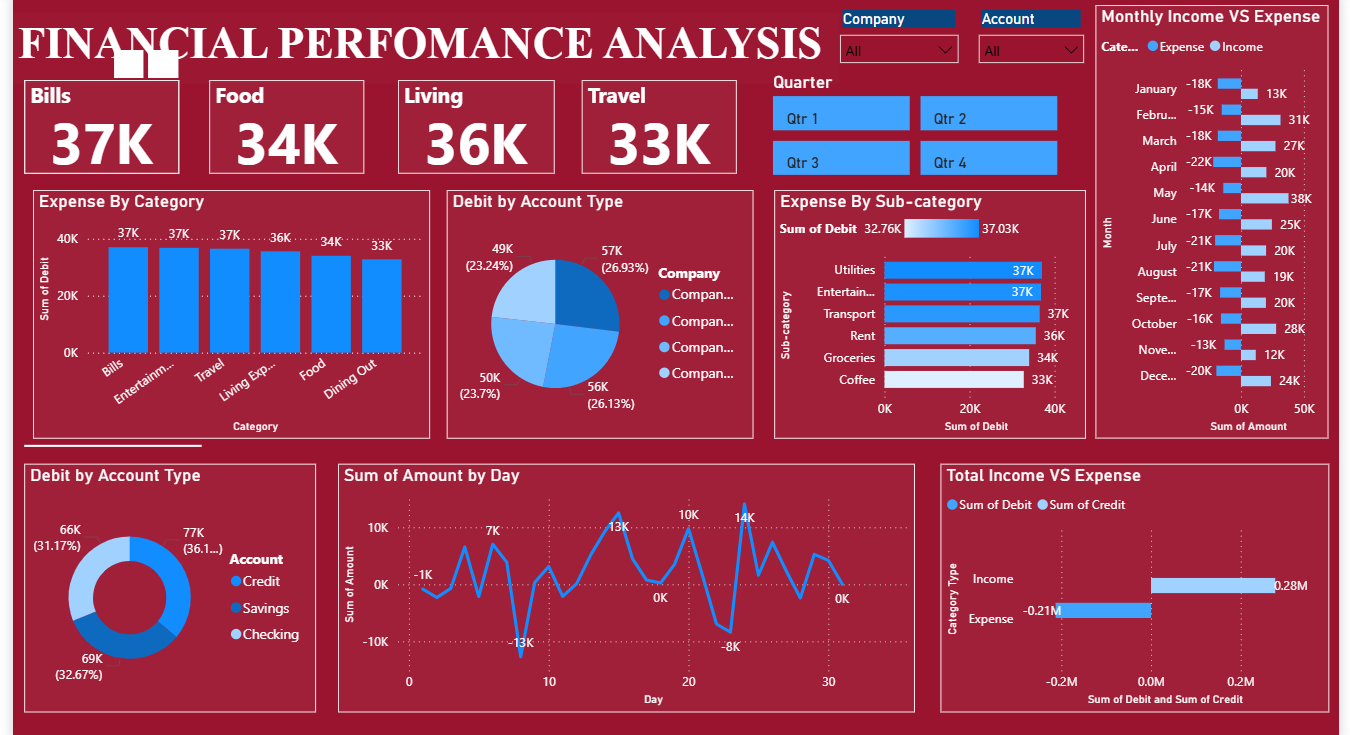

Layout of this report page (visuals, bound fields, positions):
{"tool":"powerbi","page":{"name":"Page 1","canvas":[1280,720],"ordinal":0},"visuals":[{"type":"textbox","box":[0,16.5,797.3,68.6],"z":0},{"type":"card","title":"Bills","fields":{"Values":["Sum(Generated_Finance_Expenses (2).Debit)"]},"box":[11,82.3,149.6,90.6],"z":1000},{"type":"card","title":"Travel","fields":{"Values":["Sum(Generated_Finance_Expenses (2).Debit)"]},"box":[548.9,82.3,149.6,90.6],"z":2000},{"type":"card","title":"Food","fields":{"Values":["Sum(Generated_Finance_Expenses (2).Debit)"]},"box":[189.4,82.3,149.6,90.6],"z":3000},{"type":"card","title":"Living","fields":{"Values":["Sum(Generated_Finance_Expenses (2).Debit)"]},"box":[371.9,82.3,150.9,90.6],"z":4000},{"type":"donutChart","title":"Debit by Account Type","fields":{"Category":["Generated_Finance_Expenses (2).Account"],"Y":["Sum(Generated_Finance_Expenses (2).Debit)"]},"box":[11,452.8,281.3,240.1],"z":5000},{"type":"clusteredBarChart","title":"Total Income VS Expense","fields":{"Category":["Generated_Finance_Expenses (2).Category Type"],"Y":["Generated_Finance_Expenses (2).Sum of Debit","Sum(Generated_Finance_Expenses (2).Credit)"]},"box":[895.2,452.4,375.2,240.1],"z":6000},{"type":"columnChart","title":"Expense By Category","fields":{"Category":["Generated_Finance_Expenses (2).Category"],"Y":["Sum(Generated_Finance_Expenses (2).Debit)"]},"box":[19.2,188,382.8,240.1],"z":7000},{"type":"clusteredBarChart","title":"Expense By Sub-category","fields":{"Category":["Generated_Finance_Expenses (2).Sub-category"],"Y":["Sum(Generated_Finance_Expenses (2).Debit)"]},"box":[734.1,188,300.5,240.1],"z":8000},{"type":"clusteredBarChart","title":"Monthly Income VS Expense","fields":{"Category":["Generated_Finance_Expenses (2).Date.Variation.Date Hierarchy.Month"],"Y":["Sum(Generated_Finance_Expenses (2).Amount)"],"Series":["Generated_Finance_Expenses (2).Category Type"]},"box":[1044.3,9.6,225,418.5],"z":9000},{"type":"pieChart","title":"Debit by Account Type","fields":{"Y":["Sum(Generated_Finance_Expenses (2).Debit)"],"Category":["Generated_Finance_Expenses (2).Company"]},"box":[418.5,188,296.4,240.1],"z":10000},{"type":"advancedSlicerVisual","fields":{"Values":["Generated_Finance_Expenses (2).Date.Variation.Date Hierarchy.Quarter"]},"box":[728.6,74.1,284,105.7],"z":11000},{"type":"slicer","fields":{"Values":["Generated_Finance_Expenses (2).Company"]},"box":[787.7,9.6,134.5,75.5],"z":12000},{"type":"shape","box":[11,428.1,171.5,13.7],"z":13000},{"type":"slicer","fields":{"Values":["Generated_Finance_Expenses (2).Account"]},"box":[922.1,9.6,122.1,72.7],"z":15000},{"type":"lineChart","fields":{"Y":["Sum(Generated_Finance_Expenses (2).Amount)"],"Category":["Generated_Finance_Expenses (2).Date.Variation.Date Hierarchy.Day"]},"box":[314.2,452.8,557.1,240.1],"z":16000}]}

Visuals, with their boxes in screenshot pixels (x1, y1, x2, y2):
textbox: left=7, top=7, right=839, bottom=78
"Bills" card: left=19, top=75, right=175, bottom=170
"Travel" card: left=580, top=75, right=736, bottom=170
"Food" card: left=205, top=75, right=361, bottom=170
"Living" card: left=395, top=75, right=553, bottom=170
"Debit by Account Type" donutChart: left=19, top=462, right=312, bottom=712
"Total Income VS Expense" clusteredBarChart: left=941, top=461, right=1333, bottom=712
"Expense By Category" columnChart: left=27, top=186, right=426, bottom=436
"Expense By Sub-category" clusteredBarChart: left=773, top=186, right=1087, bottom=436
"Monthly Income VS Expense" clusteredBarChart: left=1097, top=0, right=1331, bottom=436
"Debit by Account Type" pieChart: left=444, top=186, right=753, bottom=436
advancedSlicerVisual - Generated_Finance_Expenses (2).Date.Variation.Date Hierarchy.Quarter: left=767, top=67, right=1064, bottom=177
slicer - Generated_Finance_Expenses (2).Company: left=829, top=0, right=969, bottom=78
shape: left=19, top=436, right=197, bottom=450
slicer - Generated_Finance_Expenses (2).Account: left=969, top=0, right=1097, bottom=75
lineChart - Sum(Generated_Finance_Expenses (2).Amount) x Generated_Finance_Expenses (2).Date.Variation.Date Hierarchy.Day: left=335, top=462, right=916, bottom=712
